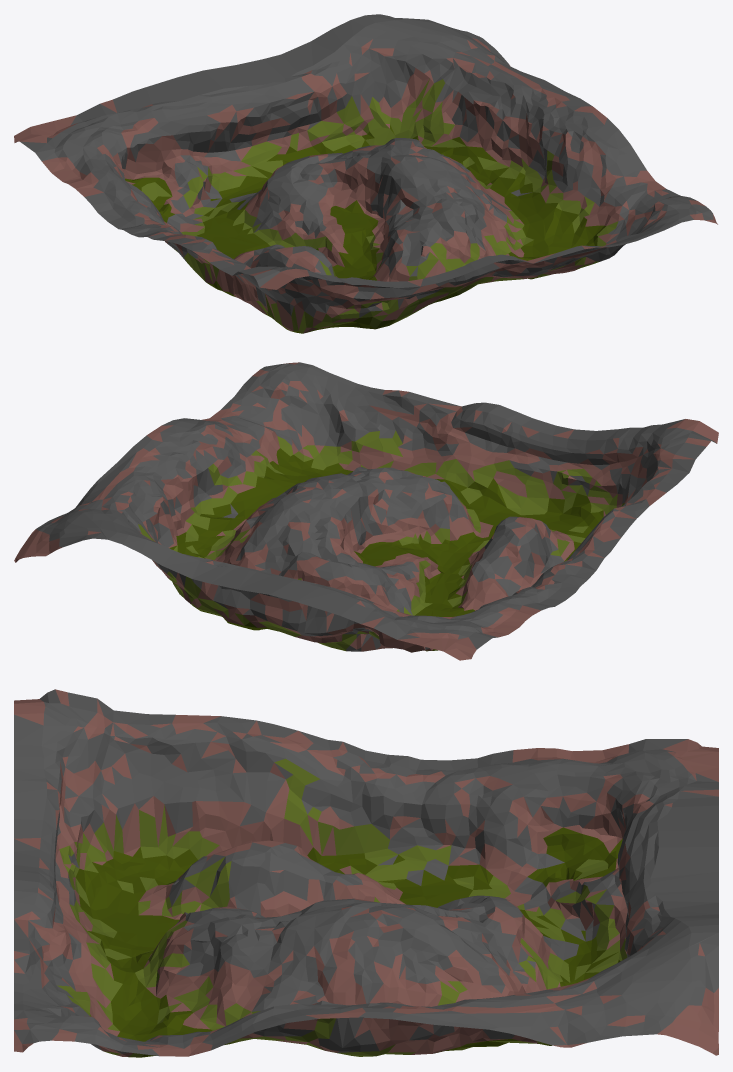
File: obj_TerrainSurface.fbx
3 views of the same model, one above another, from view 1: azimuth 30°, elevation 25°; view 2: azimuth 150°, elevation 25°; view 3: azimuth 270°, elevation 25° (orthographic). The views are drawn at different scales.
Visible parts, largest first — view 1: geo_Terrain; view 2: geo_Terrain; view 3: geo_Terrain.
Part boxes in pixels (<box>): geo_Terrain: <box>14,14,717,333</box>; geo_Terrain: <box>14,362,718,660</box>; geo_Terrain: <box>14,689,718,1057</box>.
Size of the model in its own units: 101295 by 23505 by 101270.
